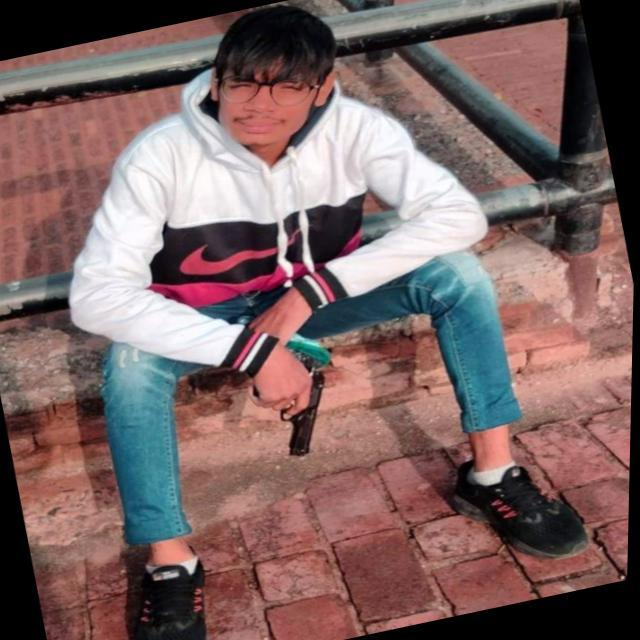weapon: (245, 358, 348, 467)
